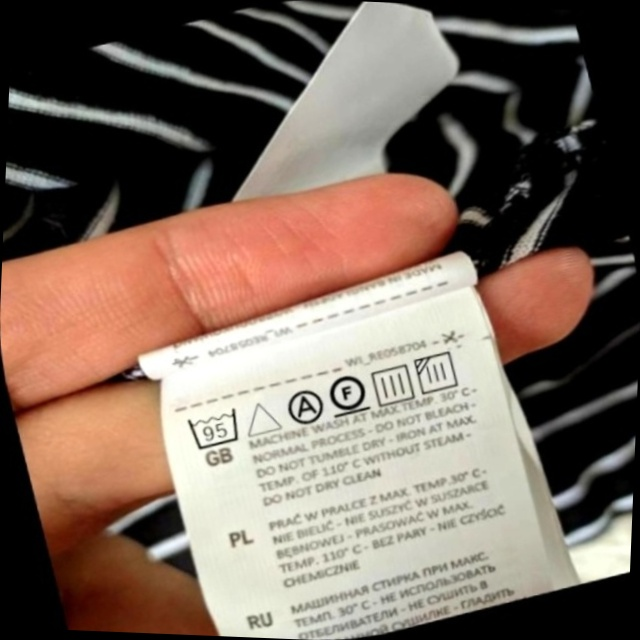95C: (181, 399, 250, 457)
bleach: (237, 391, 286, 444)
drip_dry: (364, 356, 422, 413)
drip_dry_in_shade: (409, 343, 469, 402)
dry_clean: (279, 382, 330, 432)
dry_clean_petrol_only: (321, 364, 375, 423)
